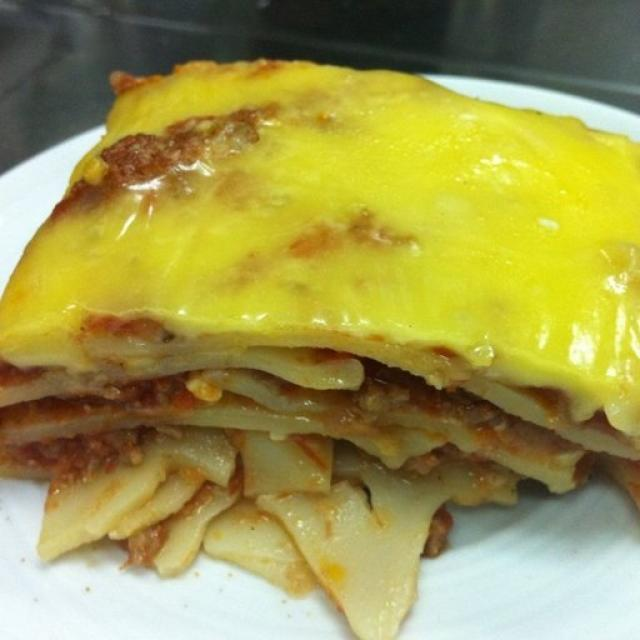Lasagna: (22, 60, 633, 574)
